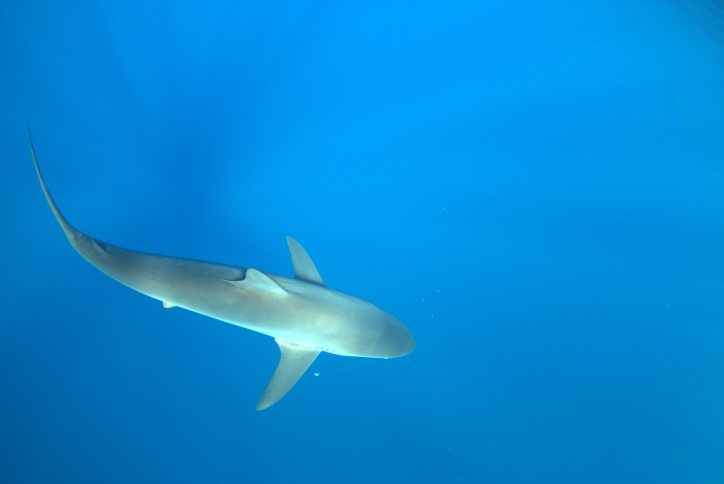Sedoso: (15, 112, 432, 429)
